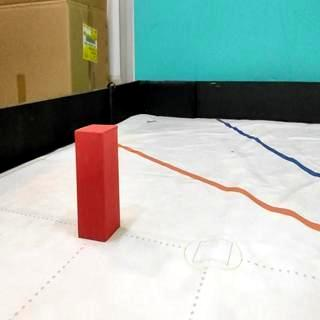redbox: (74, 122, 122, 244)
